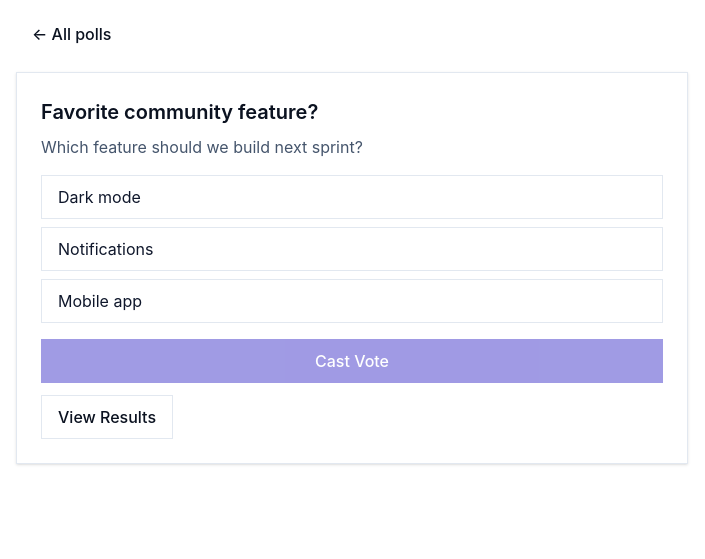
PollDetailPage › locks the card as voted and keeps the selection on 409 VOTE_DUPLICATE
This screenshot has width=705, height=559.
Expected: the radio button labelled "Dark mode" is shown, [41,175,663,219]
Click the radio button labelled "Notifications" at (106, 249), box [41,227,663,271]
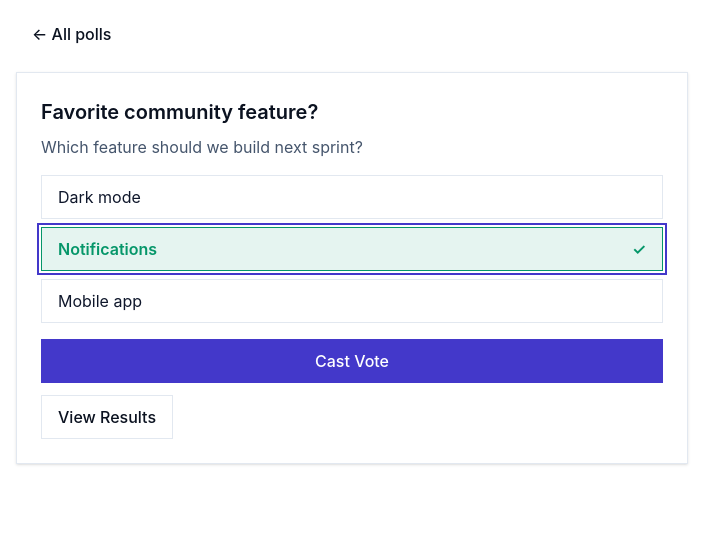
Click the button "Cast Vote" at (352, 361), box [41,339,663,383]
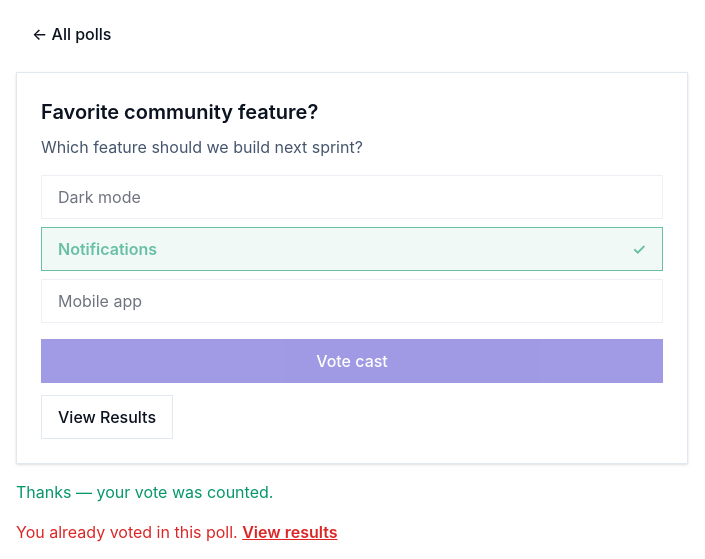
Expected: the message with test id "vote-duplicate" shows "You already voted", [16,522,238,542]
Expected: the link "View results" is shown, [242,522,338,542]
